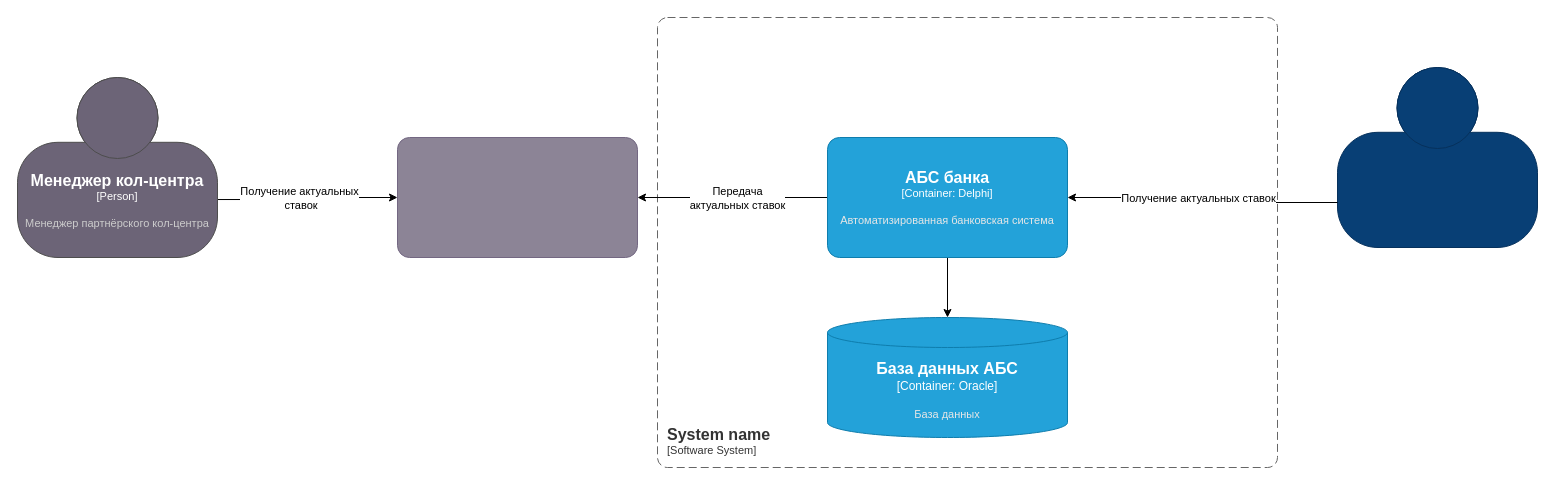
The diagram is 1555 pixels wide and 485 high, and some of its shapes have lost their labels. The shapes that lost their labels are listed below. From the top down, each one's centre as x and y in pixels, then its label:
the point at 1437,157: Менеджер кол-центра [Person] Менеджер кол-центра банка
the point at 517,197: Система кол-центра [Software System] Система кол-центра подрядчика
